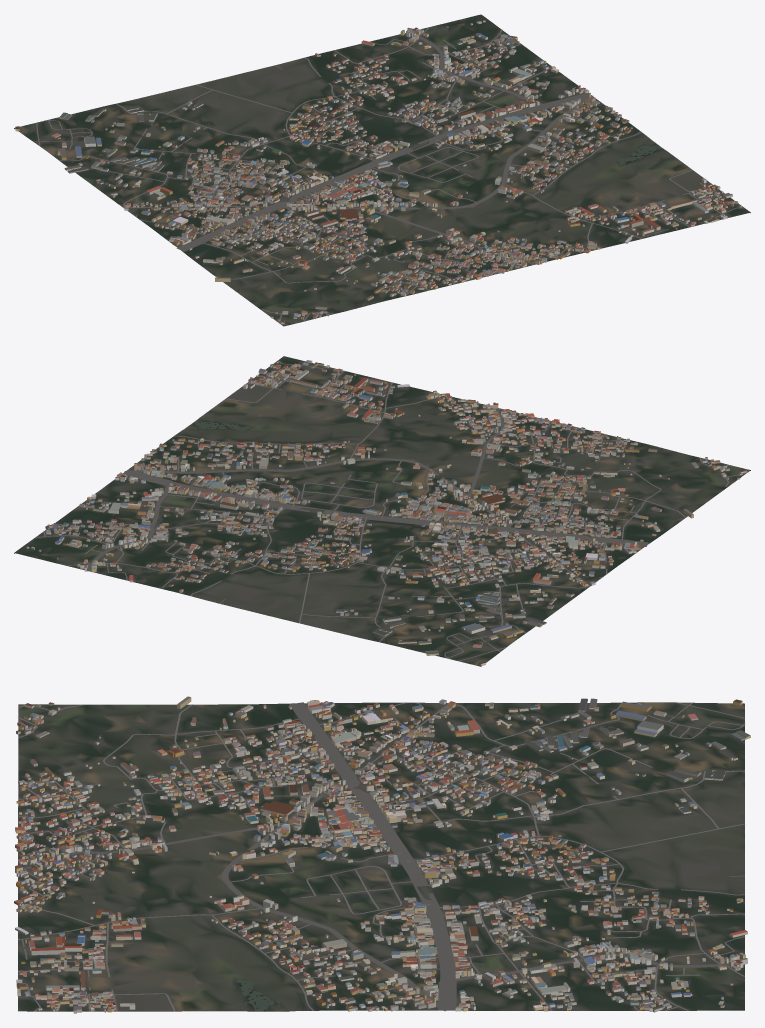
3 renders of one model, top to bottom at view 1: azimuth 30°, elevation 25°; view 2: azimuth 150°, elevation 25°; view 3: azimuth 270°, elevation 25°, orthographic. The views are drawn at different scales.
Visible parts, largest first — view 1: ground, buildings, roads; view 2: ground, buildings, roads; view 3: ground, buildings, roads, water.
Boxes of the visible parts, x1,y1,x2,y2 form: ground: (14, 14, 750, 326); buildings: (15, 20, 741, 323); roads: (34, 27, 744, 325); ground: (14, 356, 750, 666); buildings: (25, 360, 746, 665); roads: (35, 360, 747, 661); ground: (18, 702, 744, 1011); buildings: (14, 696, 750, 1013); roads: (17, 702, 745, 1011); water: (236, 962, 485, 1011).
Size of the model in its own units: 1427 by 25.31 by 1421.
